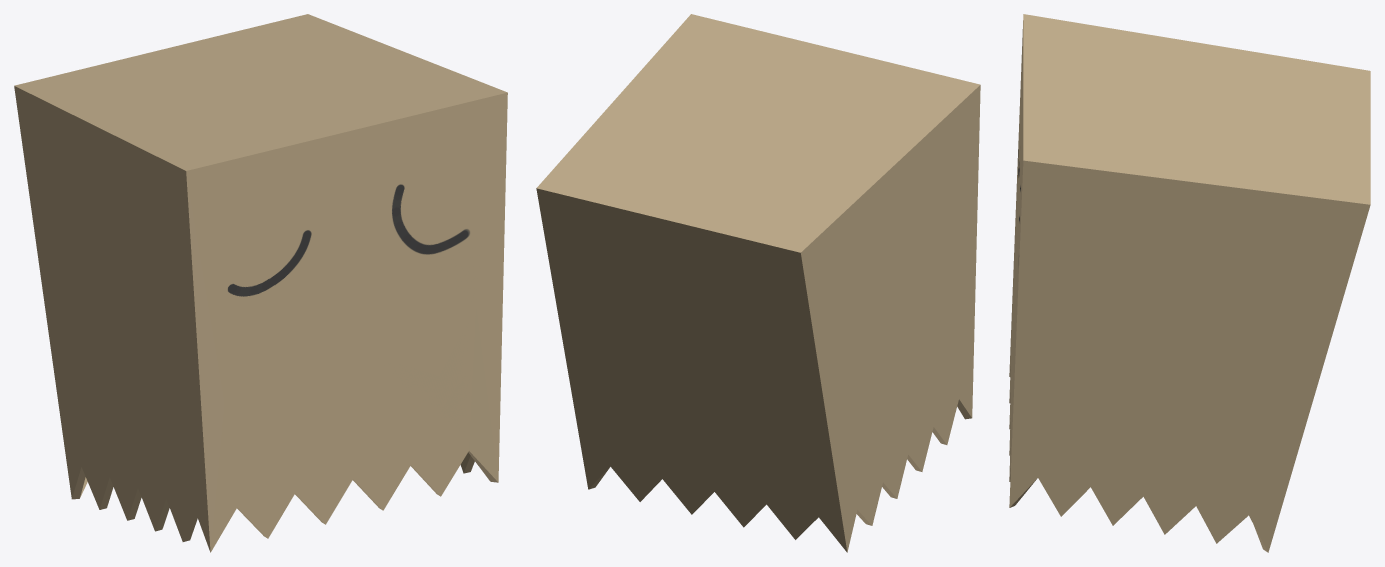
The model's file is Bagboy.fbx.
3 renders of one model, left to right at view 1: azimuth 30°, elevation 25°; view 2: azimuth 150°, elevation 25°; view 3: azimuth 270°, elevation 25°, orthographic. The views are drawn at different scales.
Parts seen in each view (by area): view 1: Bagboy_1, Bagboy_2; view 2: Bagboy_1; view 3: Bagboy_1, Bagboy_2.
Part boxes in pixels (left/top/right/bottom): Bagboy_1: left=14, top=14, right=507, bottom=552; Bagboy_2: left=186, top=92, right=507, bottom=552; Bagboy_1: left=536, top=14, right=980, bottom=552; Bagboy_1: left=1009, top=14, right=1370, bottom=552; Bagboy_2: left=1009, top=20, right=1036, bottom=507.
Bounding box in the file's own units: 44.13 × 56.17 × 45.97.
1 material, 1 textured.
